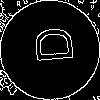D: (25, 25, 74, 65)
